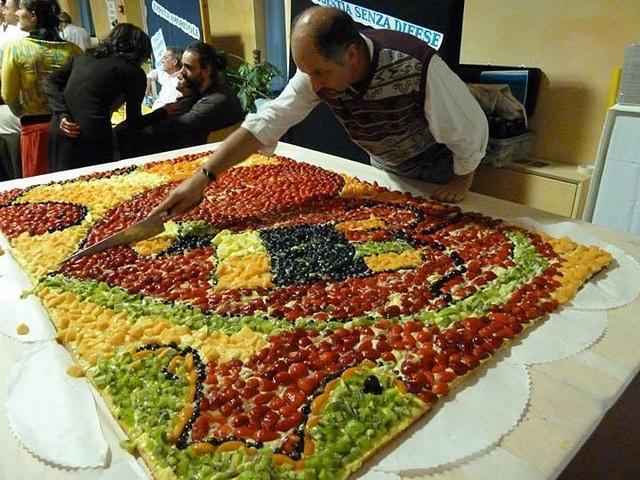tomato: (487, 313, 523, 336), (288, 362, 310, 384), (252, 426, 282, 442), (282, 384, 302, 406), (208, 394, 228, 411), (448, 360, 468, 376), (460, 356, 480, 370), (275, 371, 291, 385), (218, 304, 240, 314), (233, 416, 250, 428), (442, 348, 459, 360), (254, 394, 273, 404), (439, 371, 456, 382), (269, 309, 285, 320), (170, 288, 192, 295), (366, 348, 380, 358), (358, 341, 372, 351), (312, 312, 328, 320), (232, 407, 245, 416), (337, 329, 350, 338), (125, 256, 137, 264), (174, 274, 183, 284), (380, 297, 389, 306), (352, 230, 360, 240), (107, 248, 115, 256), (154, 275, 162, 283), (336, 294, 346, 300), (256, 188, 264, 195), (321, 297, 332, 302), (353, 290, 362, 296), (447, 280, 456, 286), (103, 264, 112, 270), (34, 214, 44, 219), (542, 276, 552, 281), (292, 171, 298, 178), (3, 192, 8, 199), (166, 266, 172, 271), (119, 212, 124, 218), (460, 234, 467, 238), (292, 184, 298, 188), (452, 225, 458, 229), (30, 224, 36, 228), (183, 156, 189, 160), (124, 208, 130, 212), (60, 208, 66, 212), (34, 217, 40, 220), (106, 173, 110, 176)
